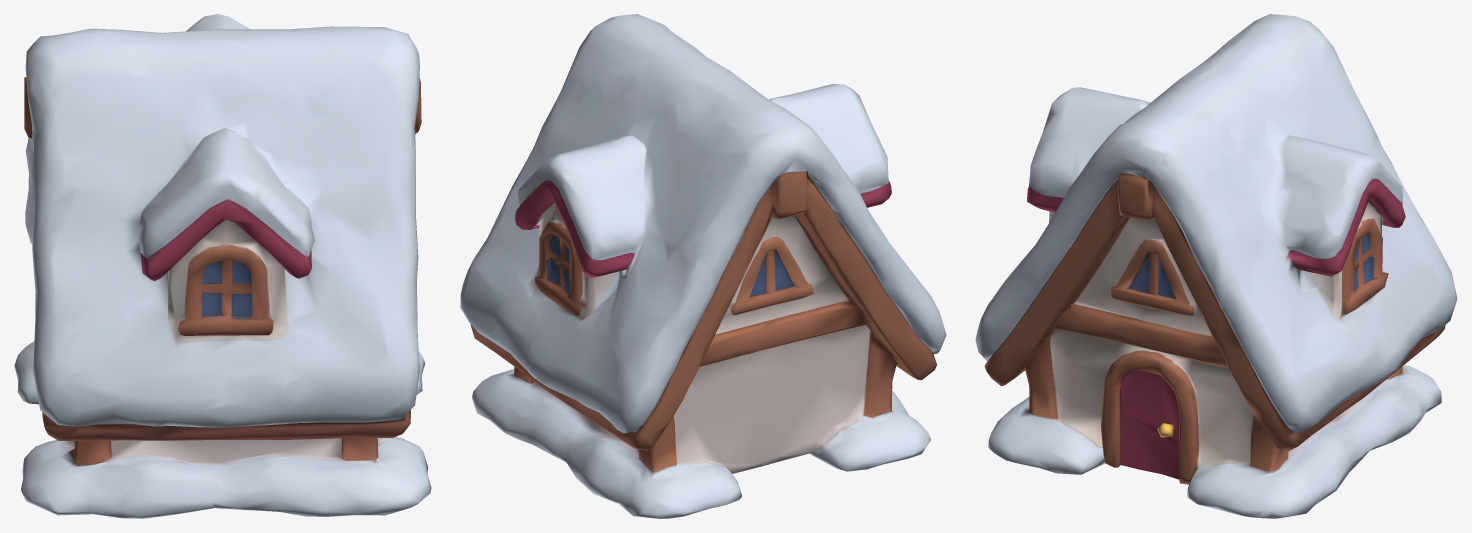
The model's file is house-a.glb.
3 views of the same model, side by side, from view 1: azimuth 30°, elevation 25°; view 2: azimuth 150°, elevation 25°; view 3: azimuth 270°, elevation 25° (orthographic). The views are drawn at different scales.
Parts seen in each view (by area): view 1: tripo_node_98a6c079-5d1b-4df1-b87e-fa532926274f; view 2: tripo_node_98a6c079-5d1b-4df1-b87e-fa532926274f; view 3: tripo_node_98a6c079-5d1b-4df1-b87e-fa532926274f.
Part boxes in pixels (x1=…): tripo_node_98a6c079-5d1b-4df1-b87e-fa532926274f: x1=14, y1=14, x2=431, y2=518; tripo_node_98a6c079-5d1b-4df1-b87e-fa532926274f: x1=460, y1=14, x2=946, y2=518; tripo_node_98a6c079-5d1b-4df1-b87e-fa532926274f: x1=975, y1=14, x2=1457, y2=518.
Bounding box in the file's own units: 1.18 × 1 × 1.21.
Materials: 1 (1 with a texture image).
